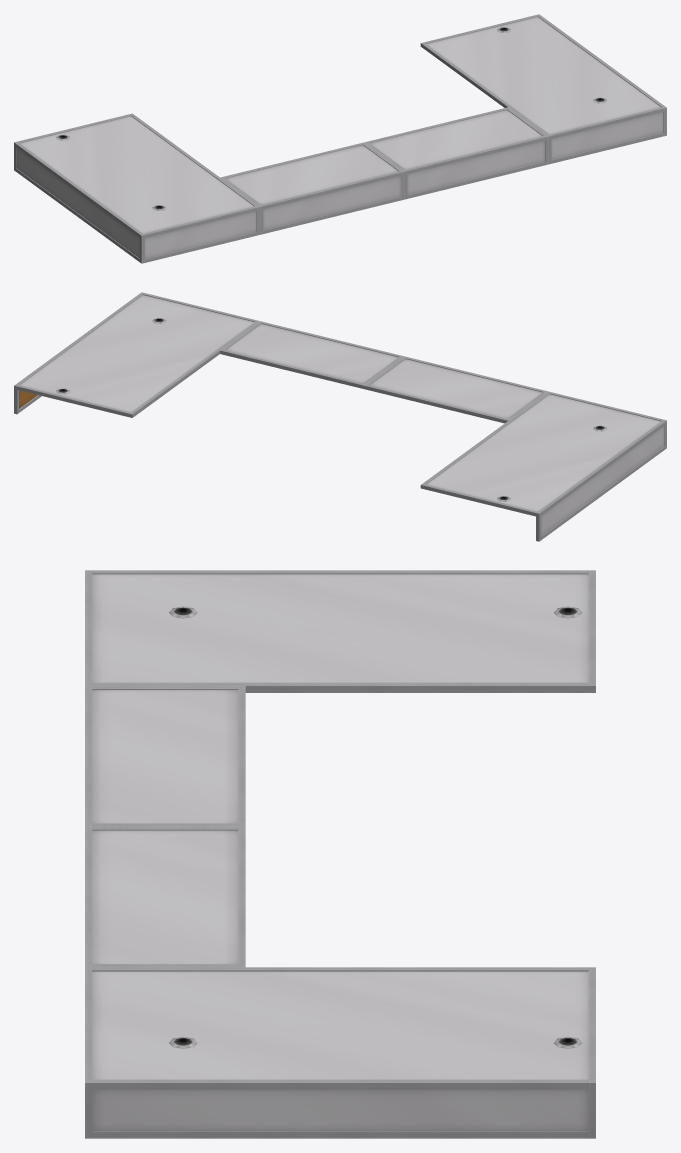
Rendered from jsf_4P_s02_c04_t03_DX.fbx.
3 renders of one model, top to bottom at view 1: azimuth 30°, elevation 25°; view 2: azimuth 150°, elevation 25°; view 3: azimuth 270°, elevation 25°, orthographic. The views are drawn at different scales.
Visible parts, largest first — view 1: jsf_4P_s02_c04_t03_DX; view 2: jsf_4P_s02_c04_t03_DX; view 3: jsf_4P_s02_c04_t03_DX.
Boxes of the visible parts, x1=… form: jsf_4P_s02_c04_t03_DX: x1=14, y1=14, x2=666, y2=263; jsf_4P_s02_c04_t03_DX: x1=14, y1=292, x2=666, y2=541; jsf_4P_s02_c04_t03_DX: x1=85, y1=570, x2=595, y2=1138.
Size of the model in its own units: 246 by 12.99 by 104.
